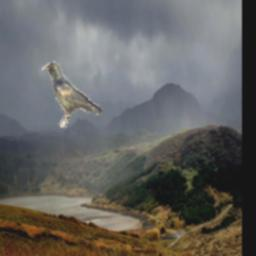Crow: (40, 62, 102, 129)
